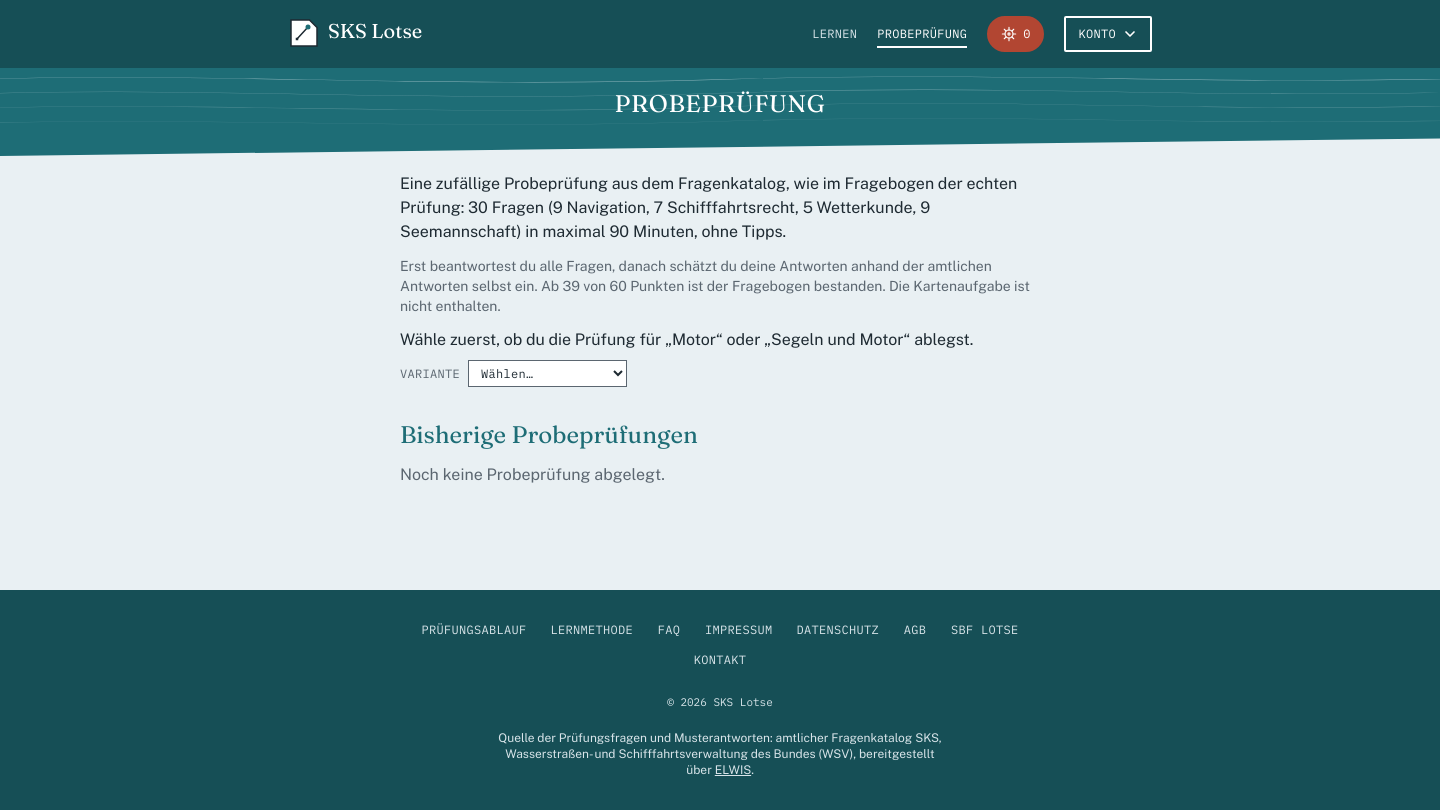
Test: ExamPage › says so when saving the chosen variant fails
Select "Motor" in the dropdown labelled "Variante" at (548, 374), box [468,360,627,387]
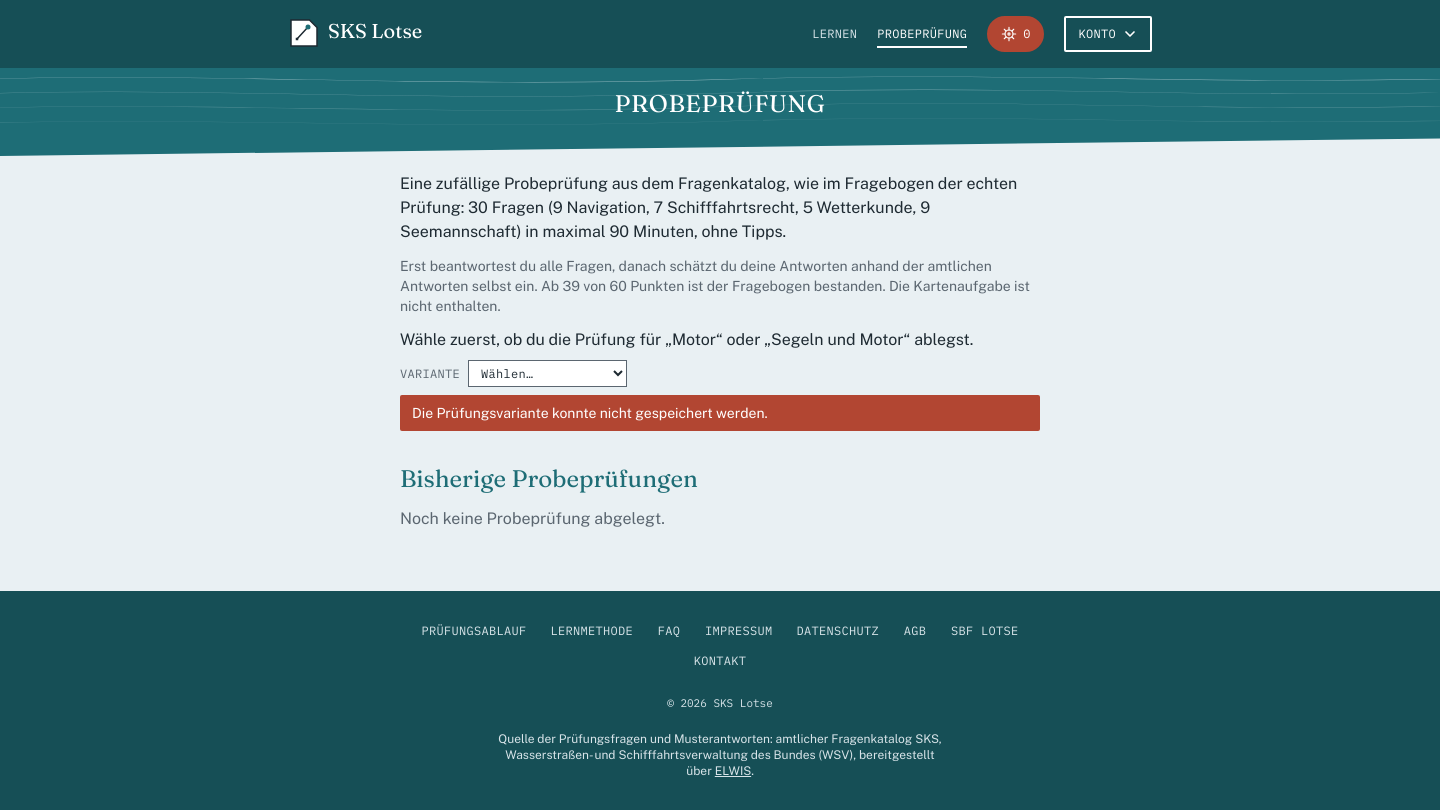
Expected: the text "Die Prüfungsvariante konnte nicht gespeichert werden." is shown, [412,403,768,423]
